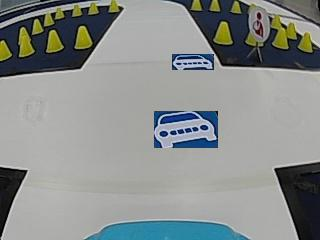cone: (17, 28, 34, 55), (214, 21, 233, 45), (74, 26, 92, 49), (46, 30, 64, 52), (273, 28, 288, 49), (298, 32, 312, 52), (0, 38, 11, 59), (32, 18, 43, 33), (107, 0, 119, 13), (88, 2, 99, 15), (230, 1, 241, 14), (71, 4, 82, 17), (209, 0, 220, 12), (190, 0, 202, 11), (44, 12, 54, 25), (54, 7, 64, 19)
patient: (250, 6, 270, 38)
